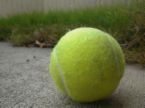tennis ball: (48, 25, 126, 102)
